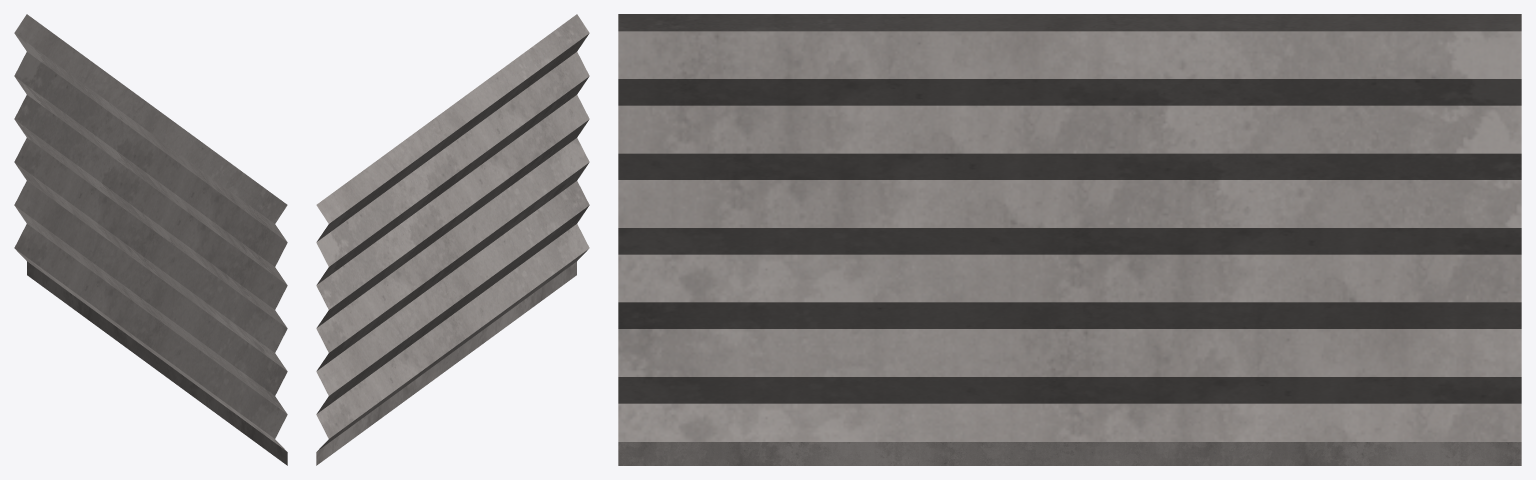
Rendered from sHUTTER.fbx.
3 renders of one model, left to right at view 1: azimuth 30°, elevation 25°; view 2: azimuth 150°, elevation 25°; view 3: azimuth 270°, elevation 25°, orthographic. The views are drawn at different scales.
Visible parts, largest first — view 1: Plane.006; view 2: Plane.006; view 3: Plane.006.
Boxes of the visible parts, bbox=[...] form: Plane.006: bbox=[14, 14, 287, 465]; Plane.006: bbox=[316, 14, 589, 465]; Plane.006: bbox=[618, 14, 1521, 465].
Size of the model in its own units: 7.59 by 151 by 273.
